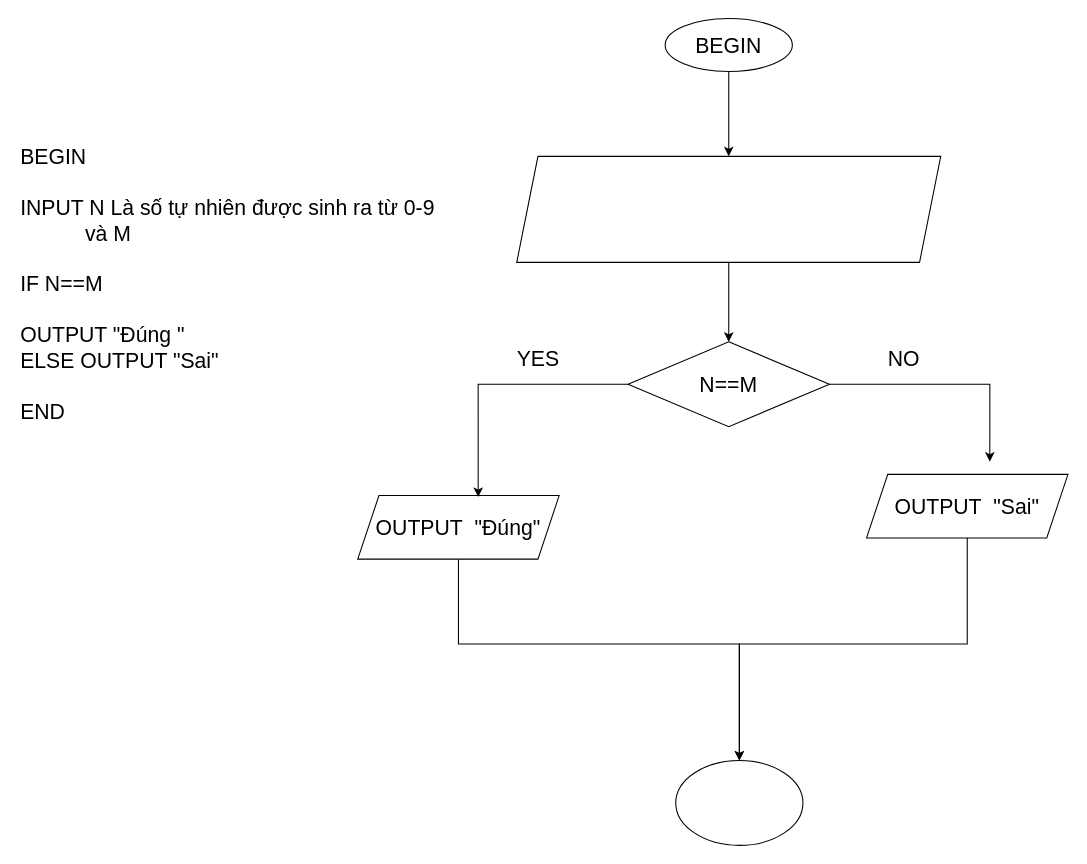
The diagram is 1087 pixels wide and 864 high, and some of its shapes have lost their labels. Each missing label, with the centre of its shape:
END: point 739,802
INPUT N Là số tự nhiên được sinh ra từ 0-9 và M: point 728,208
